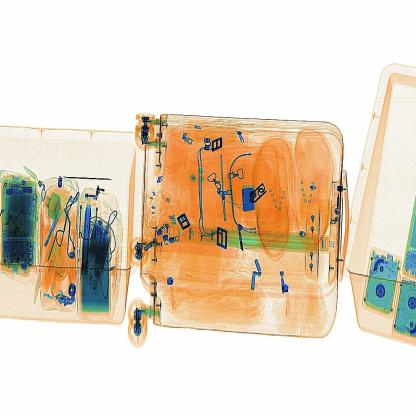wrench: (53, 170, 118, 190)
